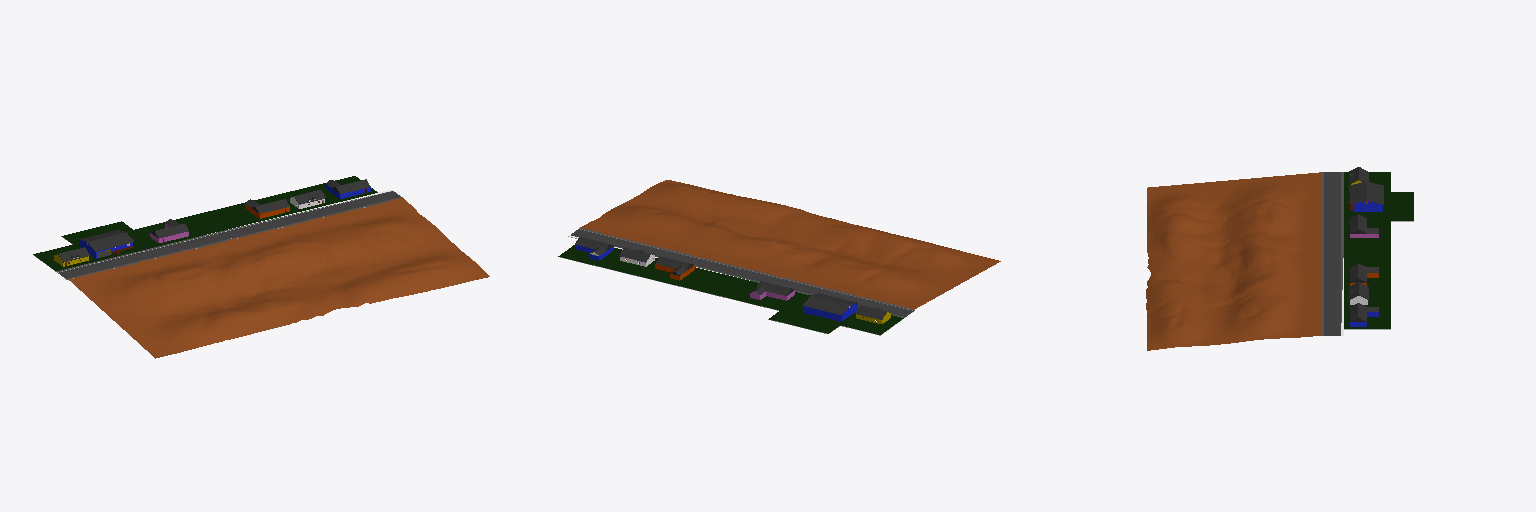
Rendered from Demomap.obj.
The picture shows the model from 3 angles: view 1: azimuth 30°, elevation 25°; view 2: azimuth 150°, elevation 25°; view 3: azimuth 270°, elevation 25°; orthographic projection.
Visible parts, largest first — view 1: Plane, 7ba5dbe5-a003-4fac-ad4b-bd7b38402d88; view 2: Plane, 7ba5dbe5-a003-4fac-ad4b-bd7b38402d88; view 3: Plane, 7ba5dbe5-a003-4fac-ad4b-bd7b38402d88.
Boxes of the visible parts, x1,y1,x2,y2 form: Plane: [68, 198, 489, 358]; 7ba5dbe5-a003-4fac-ad4b-bd7b38402d88: [33, 176, 402, 279]; Plane: [580, 180, 1000, 309]; 7ba5dbe5-a003-4fac-ad4b-bd7b38402d88: [558, 228, 914, 335]; Plane: [1146, 172, 1320, 350]; 7ba5dbe5-a003-4fac-ad4b-bd7b38402d88: [1321, 167, 1413, 335].
Bounding box in the file's own units: 200 × 14.93 × 138.